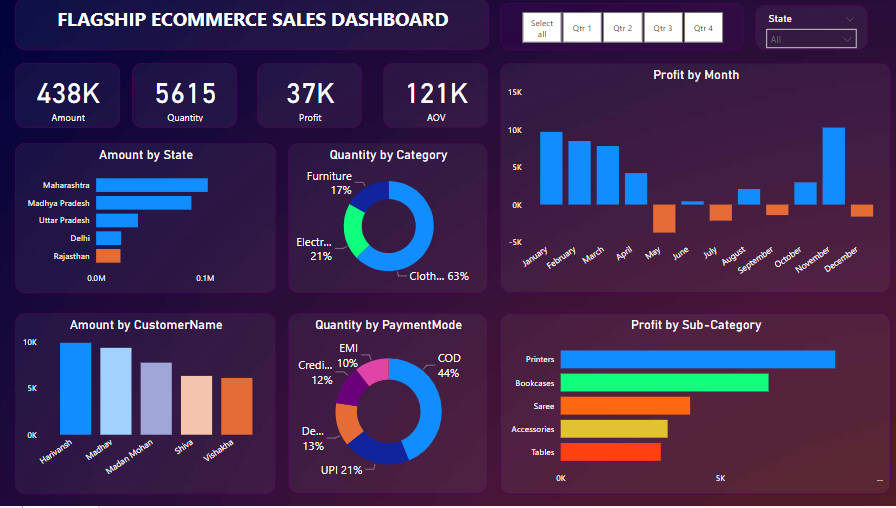

The dashboard page shown, as its layout file describes it:
{"tool":"powerbi","page":{"name":"Page 1","canvas":[1280,720],"ordinal":0},"visuals":[{"type":"textbox","box":[26.9,0,671.9,73.9],"z":0},{"type":"columnChart","fields":{"Y":["Details.Profit"],"Category":["Orders.Order Date.Variation.Date Hierarchy.Month"]},"box":[713.9,92.4,554.3,325.9],"z":1000},{"type":"barChart","fields":{"Y":["Details.Profit"],"Category":["Details.Sub-Category"]},"box":[714.3,446.5,554.2,256.5],"z":2000},{"type":"donutChart","fields":{"Category":["Details.Category"],"Y":["Details.Quantity"]},"box":[413.9,205.5,283.5,212.6],"z":3000},{"type":"donutChart","fields":{"Y":["Details.Quantity"],"Category":["Details.PaymentMode"]},"box":[414,446.5,283.5,256],"z":4000},{"type":"card","fields":{"Values":["Details.Amount"]},"box":[26.9,92.1,148.8,92.1],"z":5000},{"type":"card","fields":{"Values":["Details.Quantity"]},"box":[192.8,92.1,148.8,92.1],"z":6000},{"type":"card","fields":{"Values":["Details.Profit"]},"box":[369.9,92.1,148.8,92.1],"z":7000},{"type":"card","fields":{"Values":["Details.AOV"]},"box":[548.5,92.1,148.8,92.1],"z":8000},{"type":"barChart","fields":{"Y":["Details.Amount"],"Category":["Orders.State"]},"box":[26.9,204.9,369.6,213.3],"z":9000},{"type":"columnChart","fields":{"Y":["Details.Amount"],"Category":["Orders.CustomerName"]},"box":[26.9,446.5,369.9,256.5],"z":10000},{"type":"slicer","fields":{"Values":["Orders.Order Date.Variation.Date Hierarchy.Quarter"]},"box":[713.9,6.7,346,67.2],"z":11000},{"type":"slicer","fields":{"Values":["Orders.State"]},"box":[1075.1,10.1,159.6,63.8],"z":12000}]}

Visuals, with their boxes in screenshot pixels (x1, y1, x2, y2), scaled from the page's 1280x720 canvas onto the 896x508 screenshot:
textbox: [19,0,489,52]
columnChart - Details.Profit x Orders.Order Date.Variation.Date Hierarchy.Month: [500,65,888,295]
barChart - Details.Profit x Details.Sub-Category: [500,315,888,496]
donutChart - Details.Category x Details.Quantity: [290,145,488,295]
donutChart - Details.Quantity x Details.PaymentMode: [290,315,488,496]
card - Details.Amount: [19,65,123,130]
card - Details.Quantity: [135,65,239,130]
card - Details.Profit: [259,65,363,130]
card - Details.AOV: [384,65,488,130]
barChart - Details.Amount x Orders.State: [19,145,278,295]
columnChart - Details.Amount x Orders.CustomerName: [19,315,278,496]
slicer - Orders.Order Date.Variation.Date Hierarchy.Quarter: [500,5,742,52]
slicer - Orders.State: [753,7,864,52]
